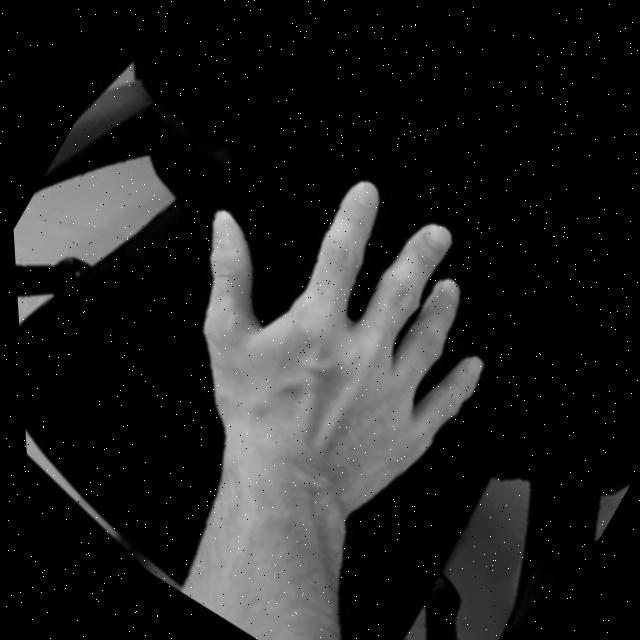no-gloves: (41, 43, 612, 600)
